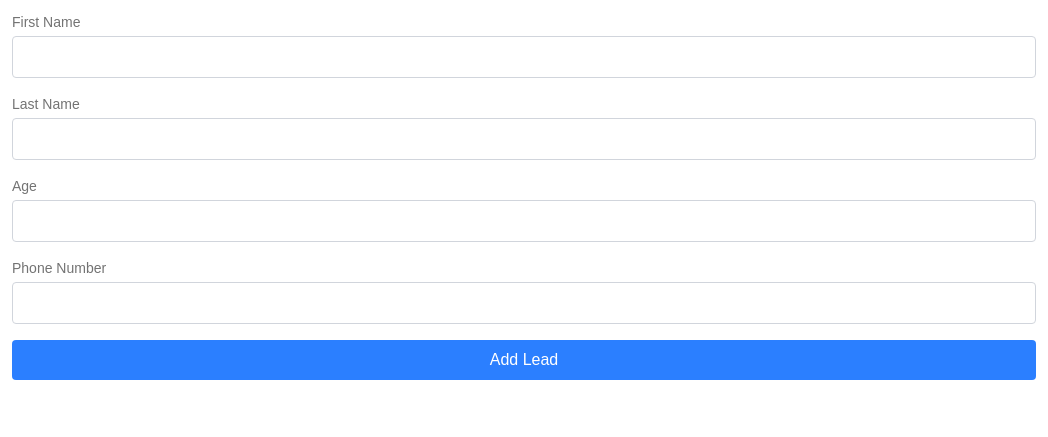
Test: AddLead › shows the server error message when create fails
Click the button "Add Lead": coordinates (524, 360) x1=12 y1=340 x2=1036 y2=380
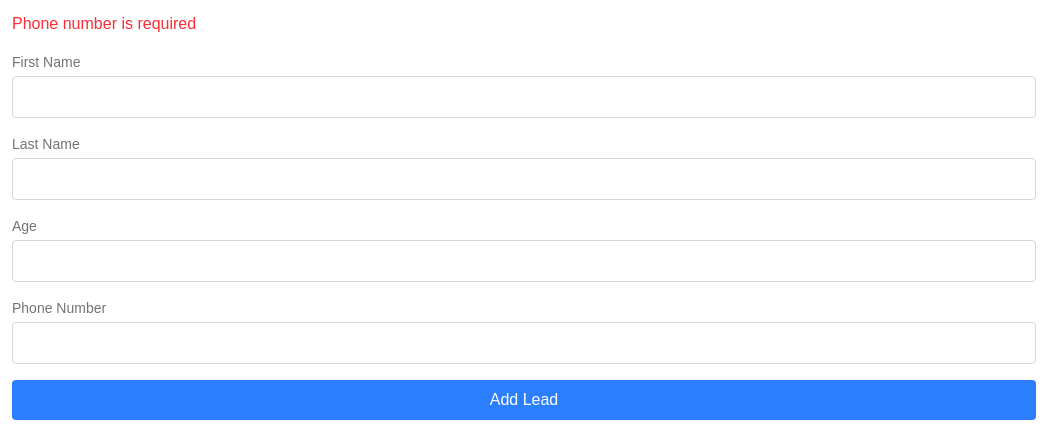
Check: the text "Phone number is required" is shown, box x1=12 y1=15 x2=196 y2=32
